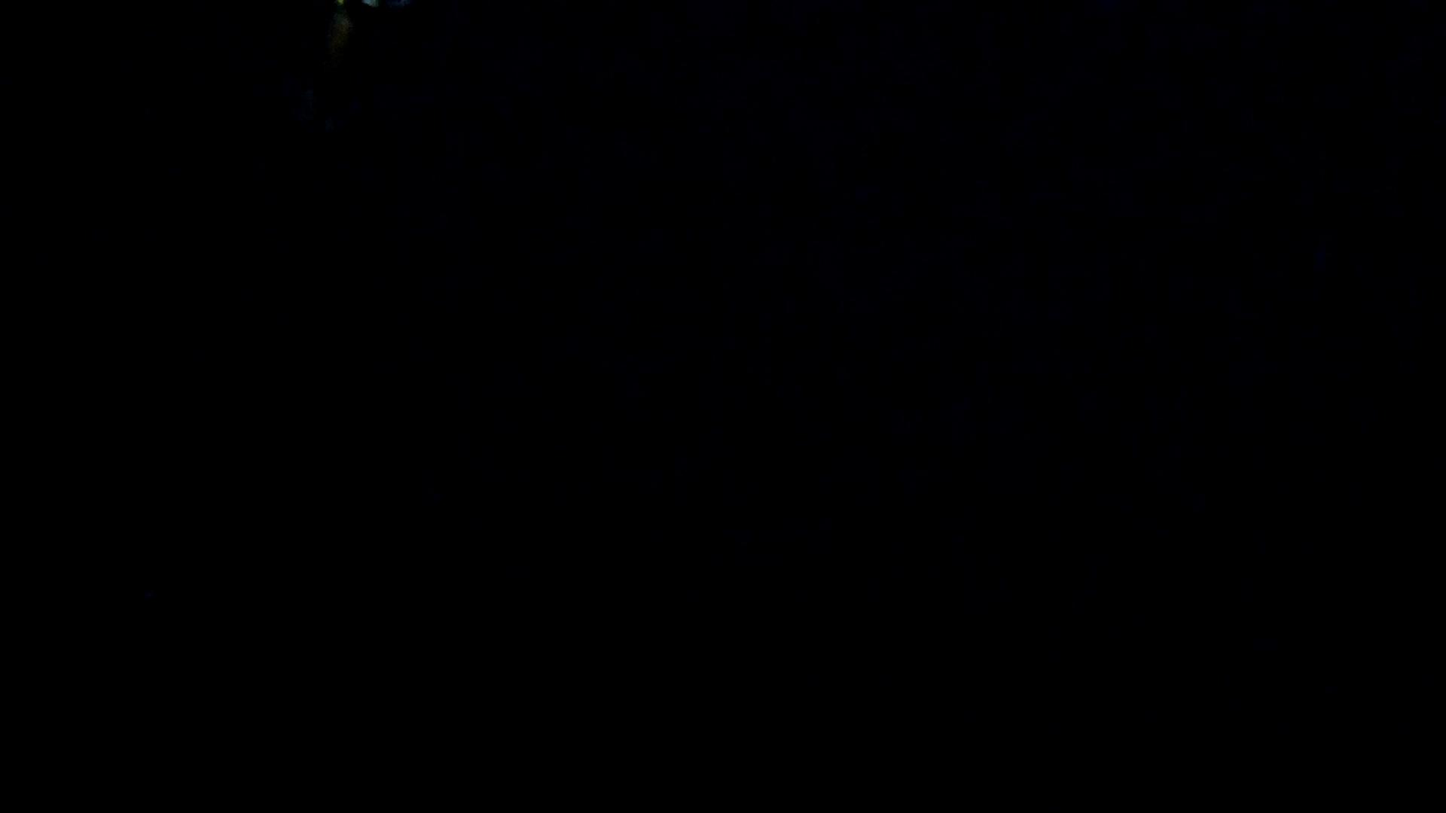organism: (275, 0, 415, 139)
